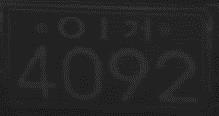0: (62, 46, 103, 101), (57, 15, 85, 39)
1: (93, 15, 115, 39)
2: (156, 48, 198, 104)
4: (16, 45, 56, 100)
9: (109, 46, 149, 101)
거: (124, 15, 150, 40)
